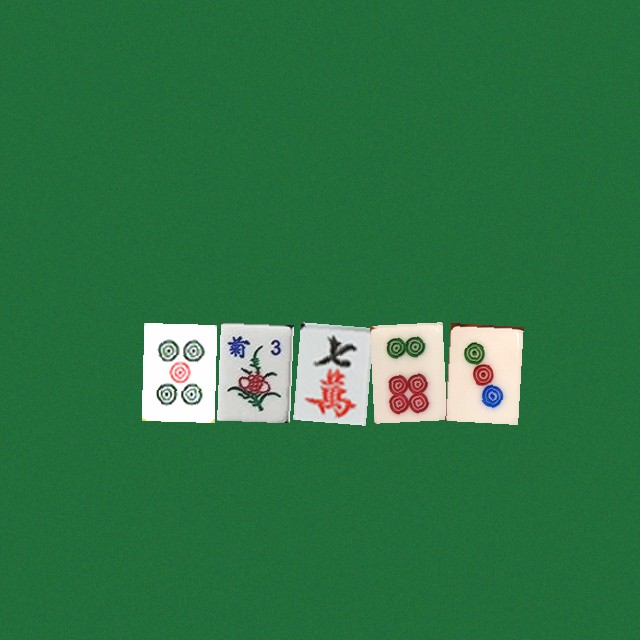tile: (141, 322, 214, 420), (217, 322, 290, 420), (293, 322, 366, 420), (369, 322, 442, 420), (445, 322, 518, 420)
